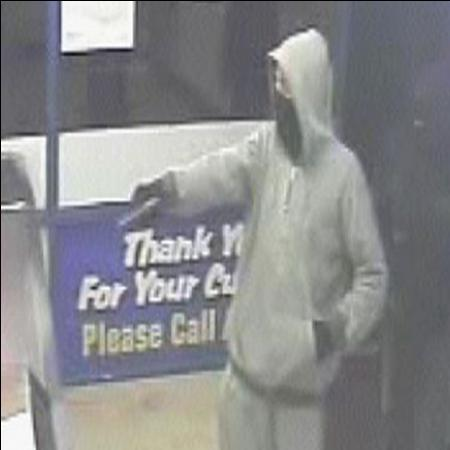Pistol: (107, 180, 162, 236)
